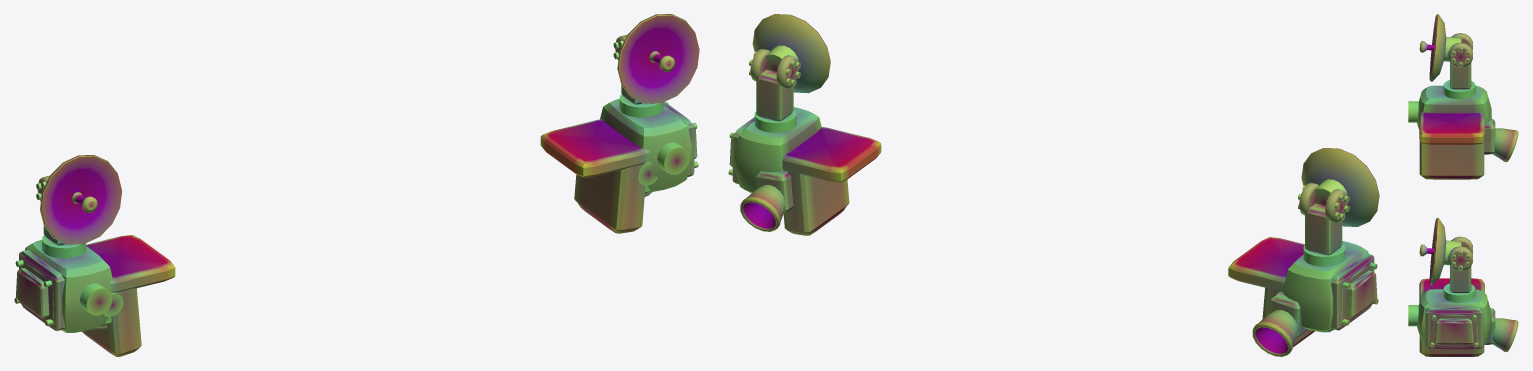
The model's file is llm_gen_shoulder_pods_067_30c3d8.glb.
3 views of the same model, side by side, from view 1: azimuth 30°, elevation 25°; view 2: azimuth 150°, elevation 25°; view 3: azimuth 270°, elevation 25° (orthographic). The views are drawn at different scales.
Visible parts, largest first — view 1: adapter_shoulder_yoke_r, parabolic_dish_5_titanium_silver_r, parabolic_dish_5_titanium_silver_l, adapter_shoulder_yoke_l, radar_housing_0_titanium_silver_r, radar_housing_0_titanium_silver_l, ew_side_plate_blue_8_cobalt_anodized_l, adapter_sub_ew_bezel_dark_7_adapter_dark_l, recon_optic_9_optic_cyan_l, recon_optic_9_optic_cyan_r, adapter_sub_azimuth_base_dark_1_adapter_dark_r, adapter_sub_azimuth_base_dark_1_adapter_dark_l; view 2: adapter_shoulder_yoke_r, radar_housing_0_titanium_silver_r, parabolic_dish_5_titanium_silver_r, parabolic_dish_5_titanium_silver_l, radar_housing_0_titanium_silver_l, adapter_shoulder_yoke_l, addon_sh_vernier_11_vernier_bell_vernier_l, addon_sh_vernier_11_vernier_bell_vernier_r, ew_side_plate_blue_8_cobalt_anodized_l, adapter_sub_dish_pedestal_dark_2_adapter_dark_r, adapter_sub_dish_pedestal_dark_2_adapter_dark_l, adapter_sub_ew_bezel_dark_7_adapter_dark_l (+6 smaller); view 3: adapter_shoulder_yoke_l, radar_housing_0_titanium_silver_l, ew_side_plate_blue_8_cobalt_anodized_r, radar_housing_0_titanium_silver_r, adapter_shoulder_yoke_r, adapter_sub_ew_bezel_dark_7_adapter_dark_r, parabolic_dish_5_titanium_silver_l, parabolic_dish_5_titanium_silver_r, addon_sh_vernier_11_vernier_bell_vernier_r, addon_sh_vernier_11_vernier_bell_vernier_l, servo_3_servo_accent_l, servo_3_servo_accent_r (+14 smaller).
Part boxes in pixels (box(x1,y1,x2,y2)): adapter_shoulder_yoke_r: box(540, 119, 651, 233); parabolic_dish_5_titanium_silver_r: box(617, 14, 699, 103); parabolic_dish_5_titanium_silver_l: box(40, 155, 121, 244); adapter_shoulder_yoke_l: box(82, 235, 175, 356); radar_housing_0_titanium_silver_r: box(600, 98, 691, 191); radar_housing_0_titanium_silver_l: box(25, 239, 112, 332); ew_side_plate_blue_8_cobalt_anodized_l: box(14, 259, 54, 325); adapter_sub_ew_bezel_dark_7_adapter_dark_l: box(19, 250, 64, 330); recon_optic_9_optic_cyan_l: box(80, 283, 112, 315); recon_optic_9_optic_cyan_r: box(657, 142, 689, 174); adapter_sub_azimuth_base_dark_1_adapter_dark_r: box(619, 94, 663, 117); adapter_sub_azimuth_base_dark_1_adapter_dark_l: box(42, 235, 85, 258); adapter_shoulder_yoke_r: box(782, 127, 881, 235); radar_housing_0_titanium_silver_r: box(734, 107, 821, 193); parabolic_dish_5_titanium_silver_r: box(752, 14, 830, 93); parabolic_dish_5_titanium_silver_l: box(1301, 148, 1379, 226); radar_housing_0_titanium_silver_l: box(1283, 241, 1368, 332); adapter_shoulder_yoke_l: box(1228, 237, 1314, 347); addon_sh_vernier_11_vernier_bell_vernier_l: box(1252, 310, 1297, 356); addon_sh_vernier_11_vernier_bell_vernier_r: box(740, 185, 785, 231); ew_side_plate_blue_8_cobalt_anodized_l: box(1341, 262, 1378, 325); adapter_sub_dish_pedestal_dark_2_adapter_dark_r: box(756, 70, 793, 121); adapter_sub_dish_pedestal_dark_2_adapter_dark_l: box(1305, 203, 1342, 255); adapter_sub_ew_bezel_dark_7_adapter_dark_l: box(1330, 253, 1374, 330); adapter_shoulder_yoke_l: box(1419, 112, 1484, 179); radar_housing_0_titanium_silver_l: box(1417, 85, 1491, 129); ew_side_plate_blue_8_cobalt_anodized_r: box(1429, 314, 1478, 347); radar_housing_0_titanium_silver_r: box(1417, 289, 1491, 346); adapter_shoulder_yoke_r: box(1419, 278, 1484, 356); adapter_sub_ew_bezel_dark_7_adapter_dark_r: box(1425, 307, 1482, 349); parabolic_dish_5_titanium_silver_l: box(1429, 14, 1446, 81); parabolic_dish_5_titanium_silver_r: box(1429, 217, 1446, 285); addon_sh_vernier_11_vernier_bell_vernier_r: box(1492, 318, 1518, 352); addon_sh_vernier_11_vernier_bell_vernier_l: box(1492, 128, 1518, 162); servo_3_servo_accent_l: box(1448, 33, 1472, 67); servo_3_servo_accent_r: box(1448, 236, 1472, 271).
Bounding box in the file's own units: 109 × 31.97 × 21.8.
